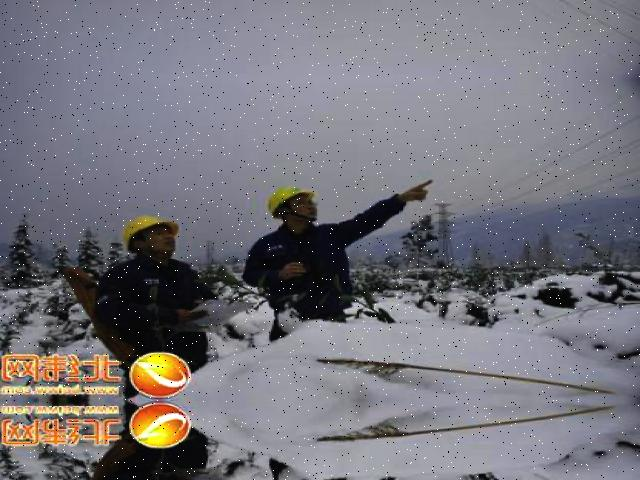Helmet: (120, 210, 186, 253), (267, 182, 321, 221)
